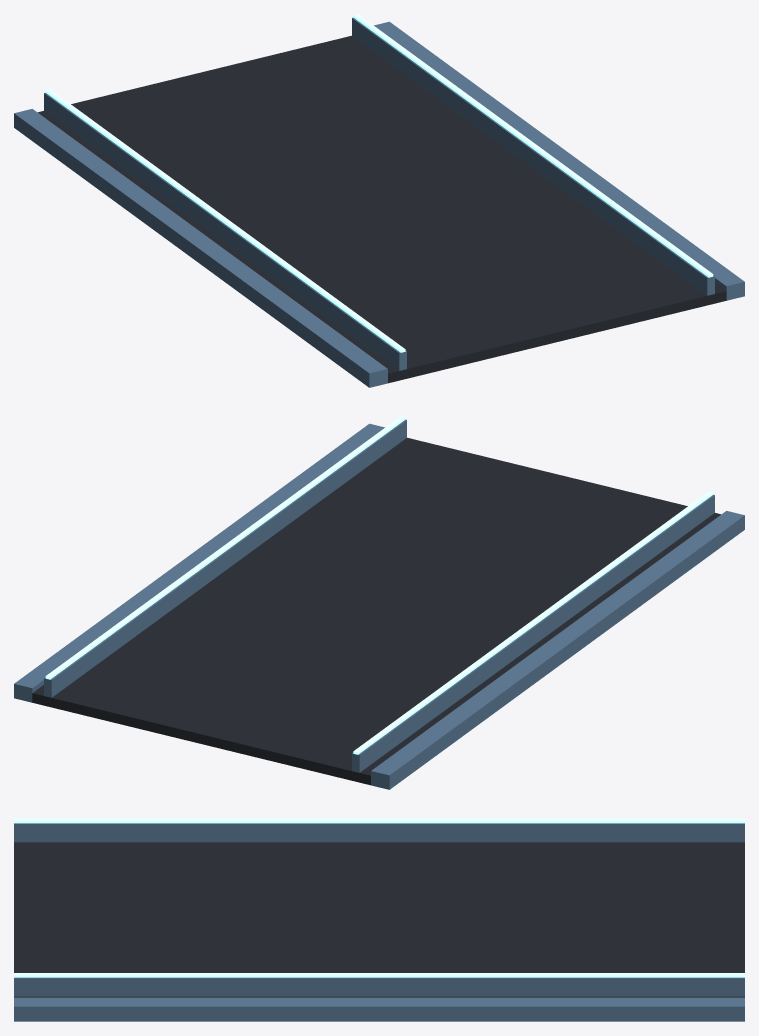
Rendered from road_future_straight_lod1.glb.
3 renders of one model, top to bottom at view 1: azimuth 30°, elevation 25°; view 2: azimuth 150°, elevation 25°; view 3: azimuth 270°, elevation 25°, orthographic. The views are drawn at different scales.
Parts seen in each view (by area): view 1: body; view 2: body; view 3: body.
Boxes of the visible parts, box(x1,y1,x2,y2) form: body: box(14, 14, 744, 387); body: box(14, 416, 744, 789); body: box(14, 818, 744, 1021).
Bounding box in the file's own units: 4.88 × 0.37 × 8.
